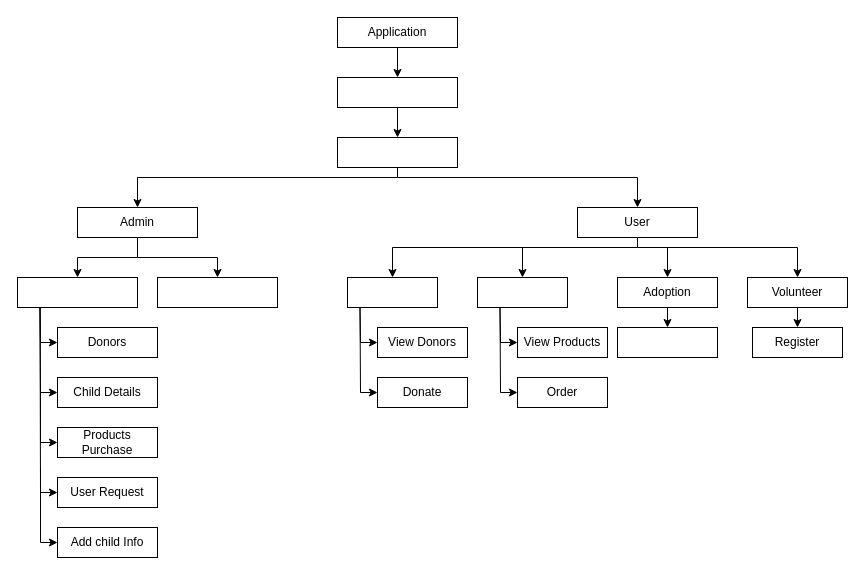
The diagram is 865 pixels wide and 575 high, and some of its shapes have lost their labels. Here are the shapes that lost their labels. From the top down, the box of each, then its label:
(336, 76, 458, 108): Index Page
(336, 136, 458, 168): Login
(16, 276, 138, 308): Manage Details
(156, 276, 278, 308): Validate User
(346, 276, 438, 308): Donation
(476, 276, 568, 308): Products
(616, 326, 718, 358): View Process Details
